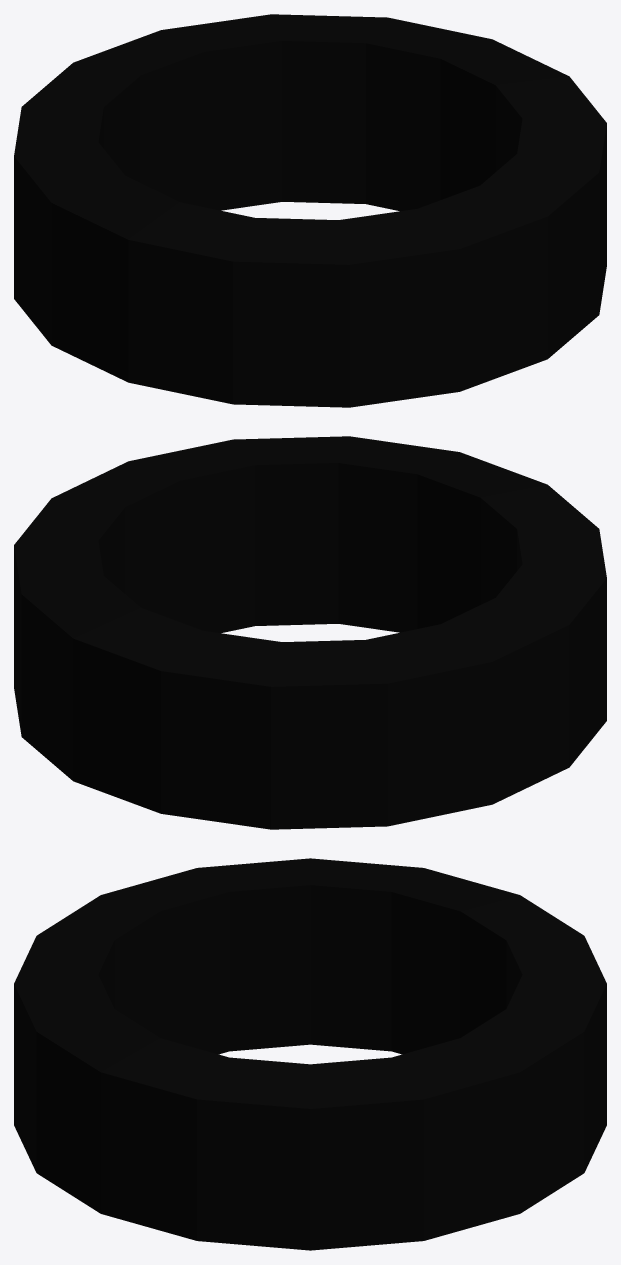
Rendered from Me_Tire.fbx.
3 renders of one model, top to bottom at view 1: azimuth 30°, elevation 25°; view 2: azimuth 150°, elevation 25°; view 3: azimuth 270°, elevation 25°, orthographic.
Visible parts, largest first — view 1: Me_Tire; view 2: Me_Tire; view 3: Me_Tire.
Boxes of the visible parts, x1,y1,x2,y2 form: Me_Tire: (14, 14, 606, 407); Me_Tire: (14, 436, 606, 829); Me_Tire: (14, 858, 606, 1250).
Bounding box in the file's own units: 480 × 480 × 143.
